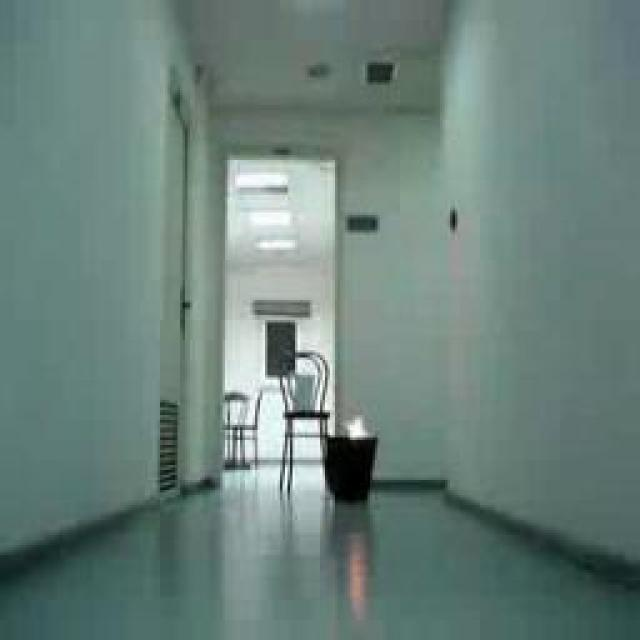Fire: (346, 411, 368, 442)
